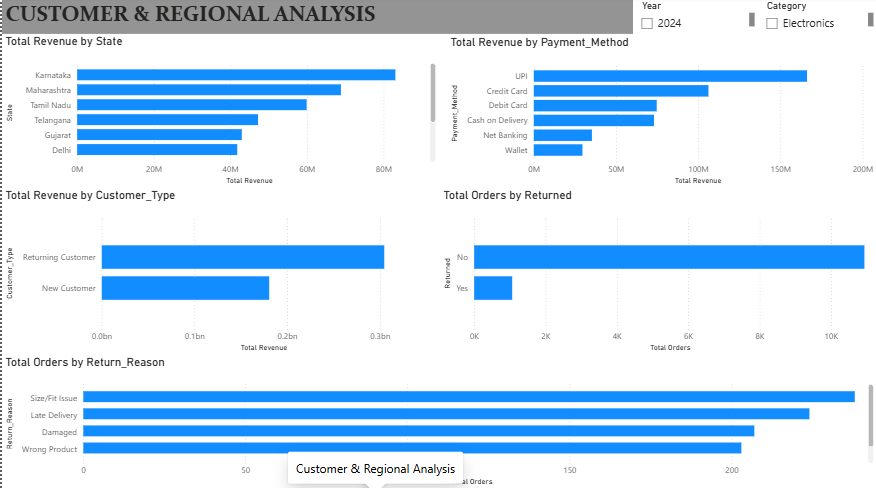

The page's visual inventory and layout, read from the dashboard file:
{"tool":"powerbi","page":{"name":"Customer & Regional Analysis","canvas":[1280,720],"ordinal":1},"visuals":[{"type":"textbox","box":[0,0,1280.5,54.1],"z":0},{"type":"barChart","fields":{"Y":["indian_ecommerce_sales_cleaned.Total Revenue"],"Category":["indian_ecommerce_sales_cleaned.State"]},"box":[0,54.1,639.5,225.4],"z":1},{"type":"clusteredBarChart","fields":{"Y":["indian_ecommerce_sales_cleaned.Total Revenue"],"Category":["indian_ecommerce_sales_cleaned.Payment_Method"]},"box":[651.2,55.6,629.3,223.9],"z":2},{"type":"clusteredBarChart","fields":{"Y":["indian_ecommerce_sales_cleaned.Total Revenue"],"Category":["indian_ecommerce_sales_cleaned.Customer_Type"]},"box":[0,279.5,641,244.4],"z":3},{"type":"clusteredBarChart","fields":{"Y":["indian_ecommerce_sales_cleaned.Total Orders"],"Category":["indian_ecommerce_sales_cleaned.Returned"]},"box":[641,279.5,639.5,244.4],"z":4},{"type":"clusteredBarChart","fields":{"Category":["indian_ecommerce_sales_cleaned.Return_Reason"],"Y":["indian_ecommerce_sales_cleaned.Total Orders"]},"box":[0,523.9,1280.5,196.1],"z":5},{"type":"slicer","fields":{"Values":["indian_ecommerce_sales_cleaned.Year"]},"box":[923.4,0,183.1,59.2],"z":6},{"type":"slicer","fields":{"Values":["indian_ecommerce_sales_cleaned.Category"]},"box":[1106.3,0,174,55.8],"z":7}]}

Visuals, with their boxes in screenshot pixels (x1, y1, x2, y2), scaled from the page's 1280x720 canvas onto the 876x488 screenshot:
textbox: locate(0, 0, 875, 37)
barChart - indian_ecommerce_sales_cleaned.Total Revenue x indian_ecommerce_sales_cleaned.State: locate(0, 37, 438, 189)
clusteredBarChart - indian_ecommerce_sales_cleaned.Total Revenue x indian_ecommerce_sales_cleaned.Payment_Method: locate(446, 38, 875, 189)
clusteredBarChart - indian_ecommerce_sales_cleaned.Total Revenue x indian_ecommerce_sales_cleaned.Customer_Type: locate(0, 189, 439, 355)
clusteredBarChart - indian_ecommerce_sales_cleaned.Total Orders x indian_ecommerce_sales_cleaned.Returned: locate(439, 189, 875, 355)
clusteredBarChart - indian_ecommerce_sales_cleaned.Return_Reason x indian_ecommerce_sales_cleaned.Total Orders: locate(0, 355, 875, 487)
slicer - indian_ecommerce_sales_cleaned.Year: locate(632, 0, 757, 40)
slicer - indian_ecommerce_sales_cleaned.Category: locate(757, 0, 875, 38)
